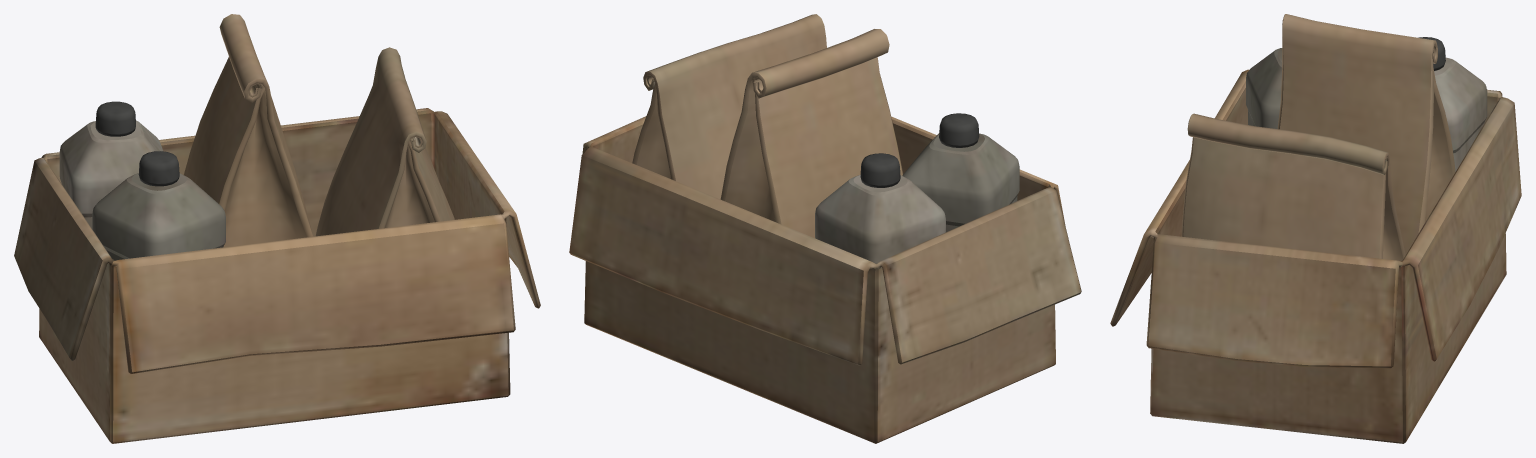
Rendered from prop_small_001.glb.
3 renders of one model, left to right at view 1: azimuth 30°, elevation 25°; view 2: azimuth 150°, elevation 25°; view 3: azimuth 270°, elevation 25°, orthographic.
Parts seen in each view (by area): view 1: Building_12_005; view 2: Building_12_005; view 3: Building_12_005.
Boxes of the visible parts, <box> form: Building_12_005: <box>14,14,540,443</box>; Building_12_005: <box>569,14,1081,443</box>; Building_12_005: <box>1110,14,1521,443</box>.
Bounding box in the file's own units: 0.8 × 0.5314 × 0.6319.
1 material, 1 textured.
